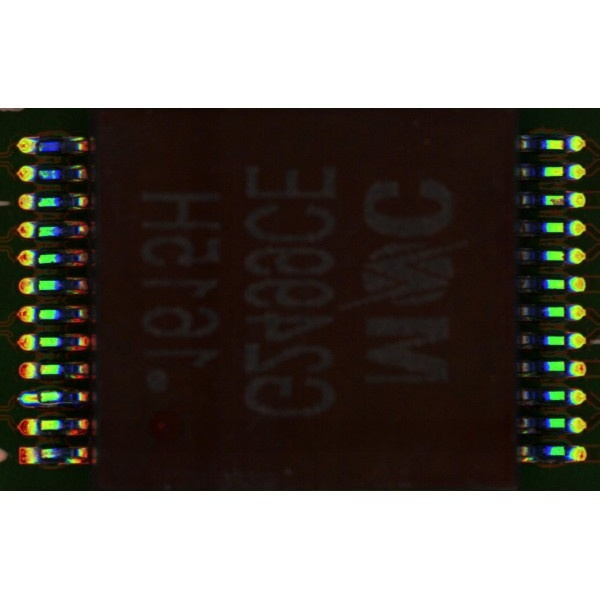Bad_podu: (28, 394, 48, 402)
